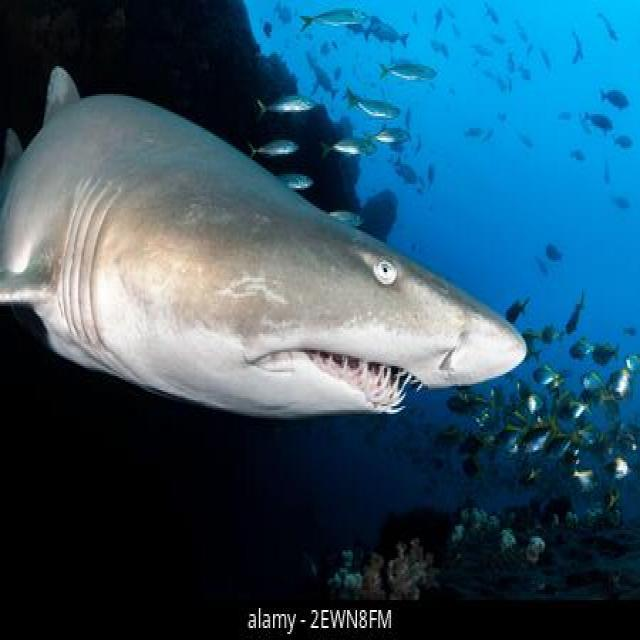Shark: (6, 58, 534, 452)
